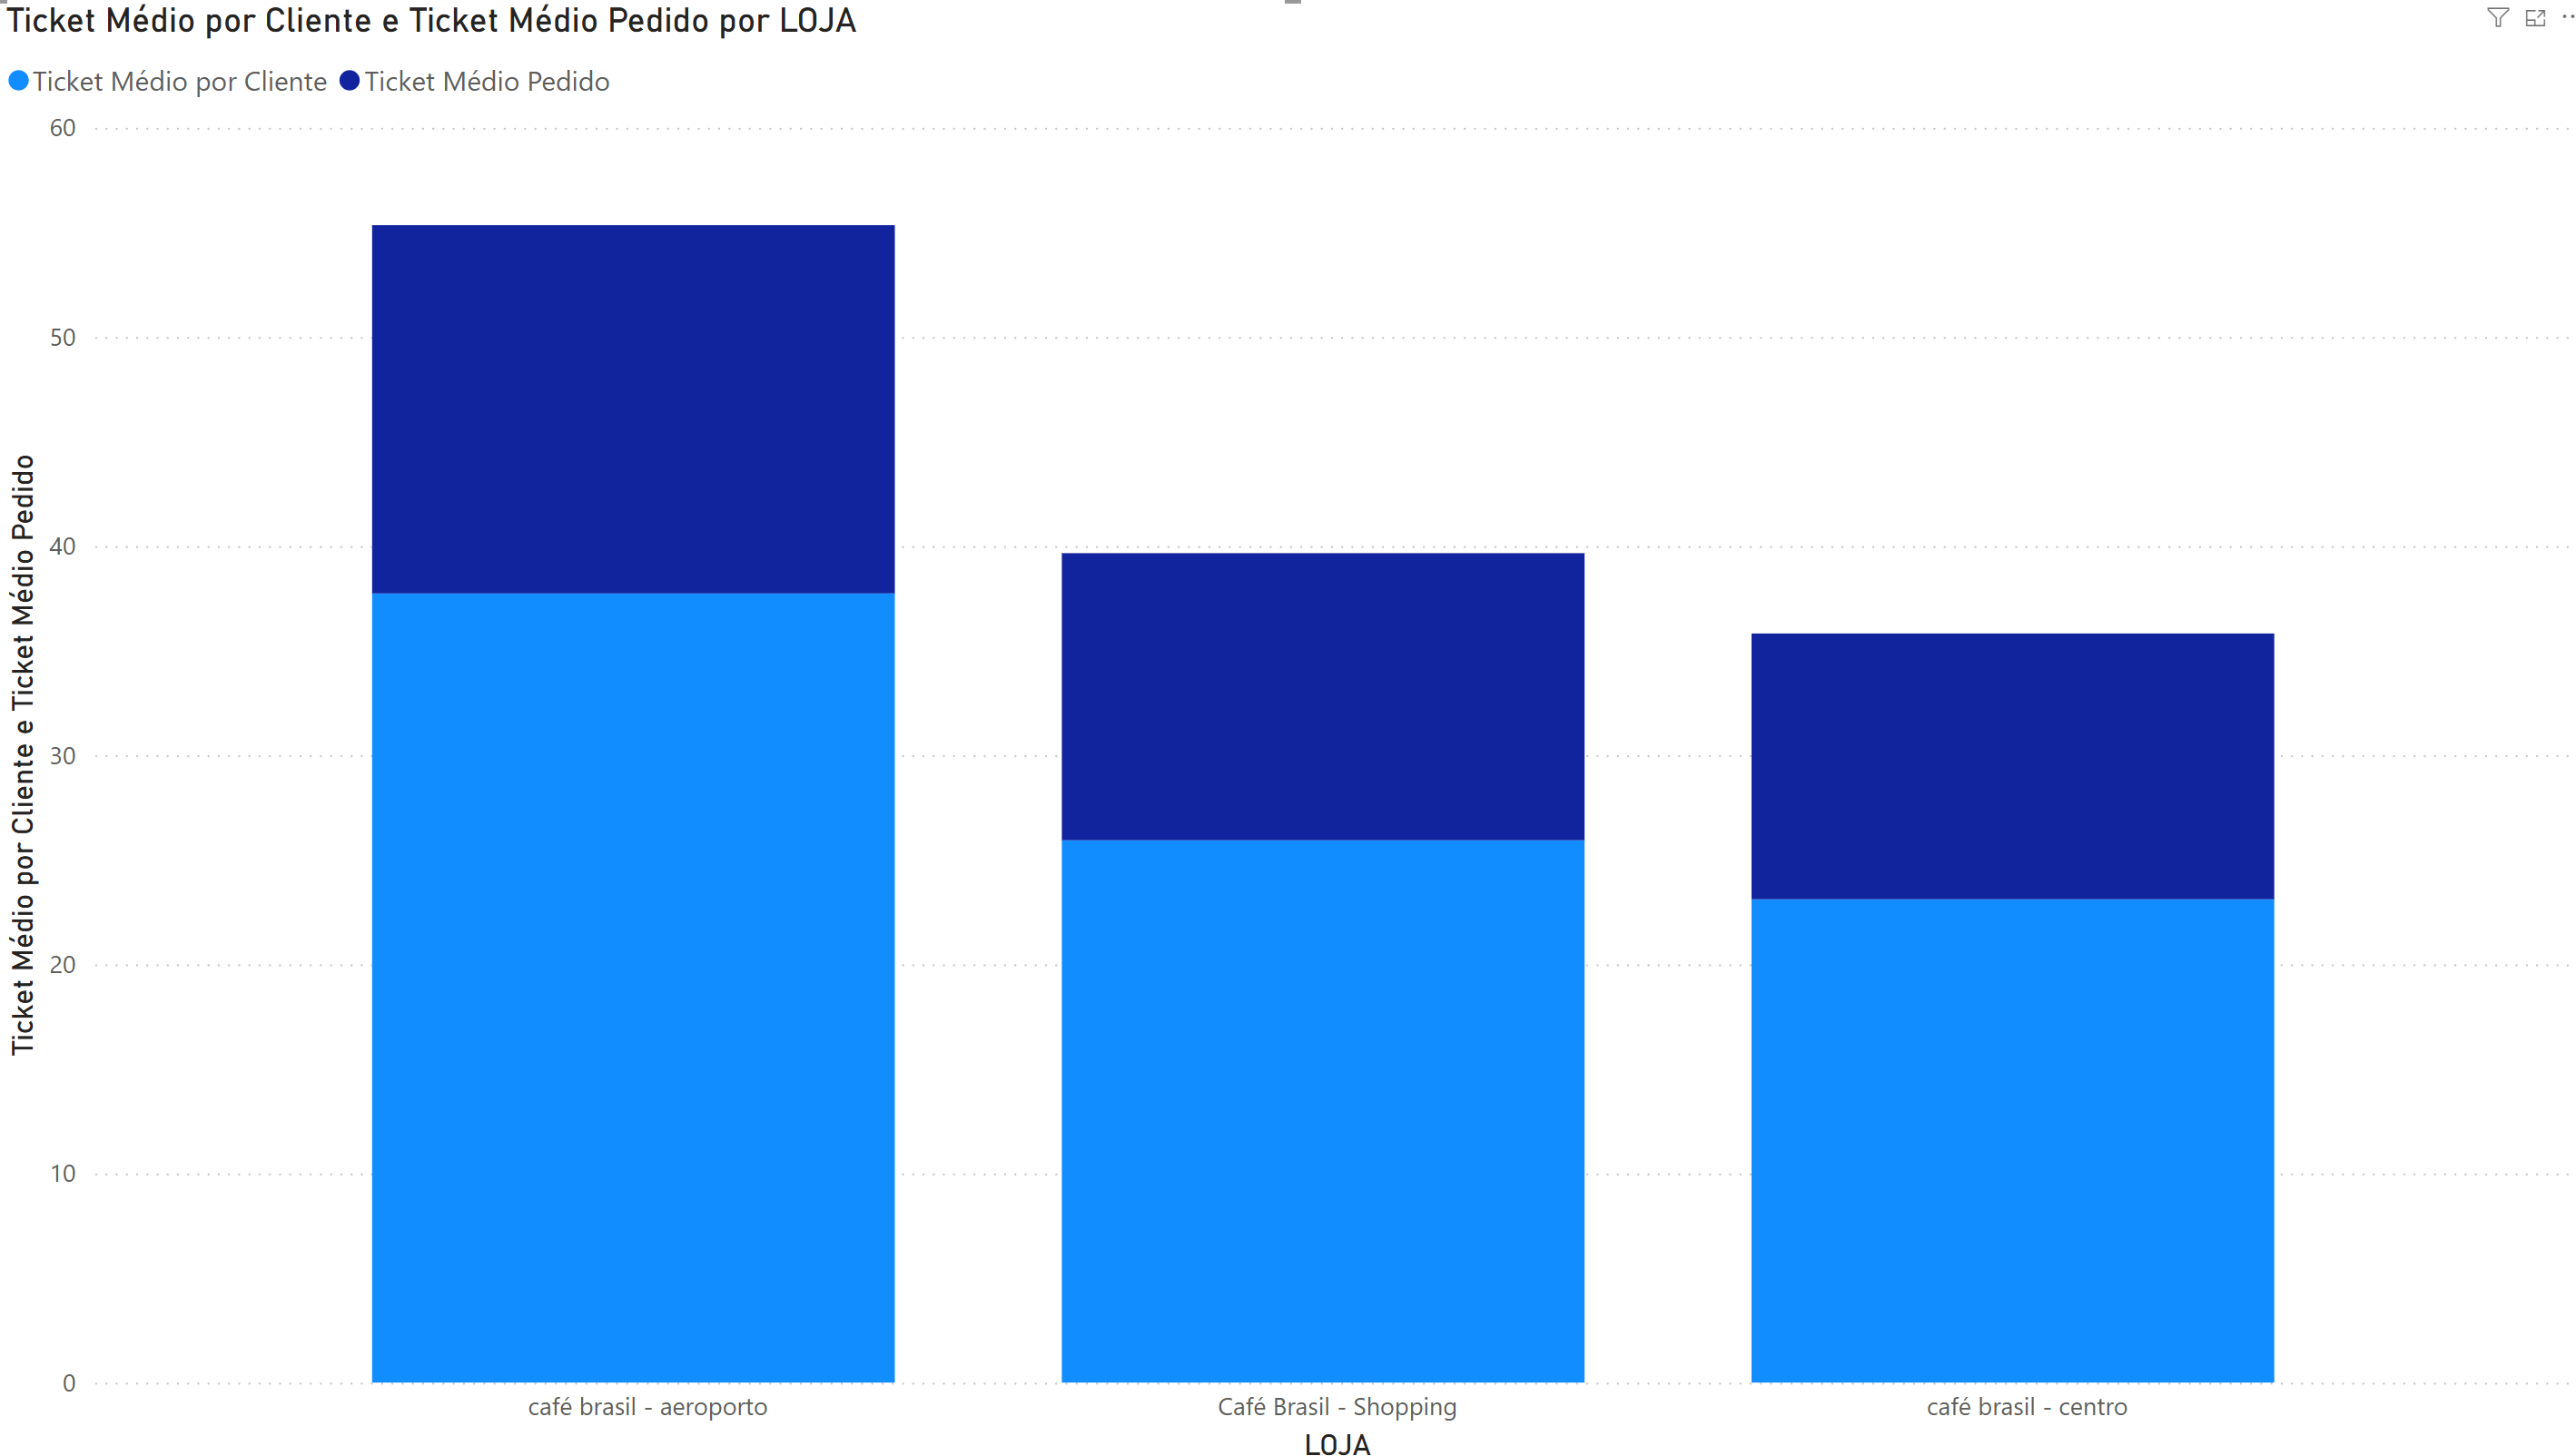

The page's visual inventory and layout, read from the dashboard file:
{"tool":"powerbi","page":{"name":"Página 3","canvas":[1280,720],"ordinal":2},"visuals":[{"type":"columnChart","fields":{"Y":["public fato_vendas.Ticket Médio por Cliente","public fato_vendas.Ticket Médio"],"Category":["public dim_loja.nome"]},"box":[10.7,0,1269.6,720.7],"z":0}]}

Visuals, with their boxes in screenshot pixels (x1, y1, x2, y2), scaled from the page's 1280x720 canvas onto the 2576x1456 screenshot:
columnChart - public fato_vendas.Ticket Médio por Cliente x public fato_vendas.Ticket Médio: x1=22 y1=0 x2=2575 y2=1455
